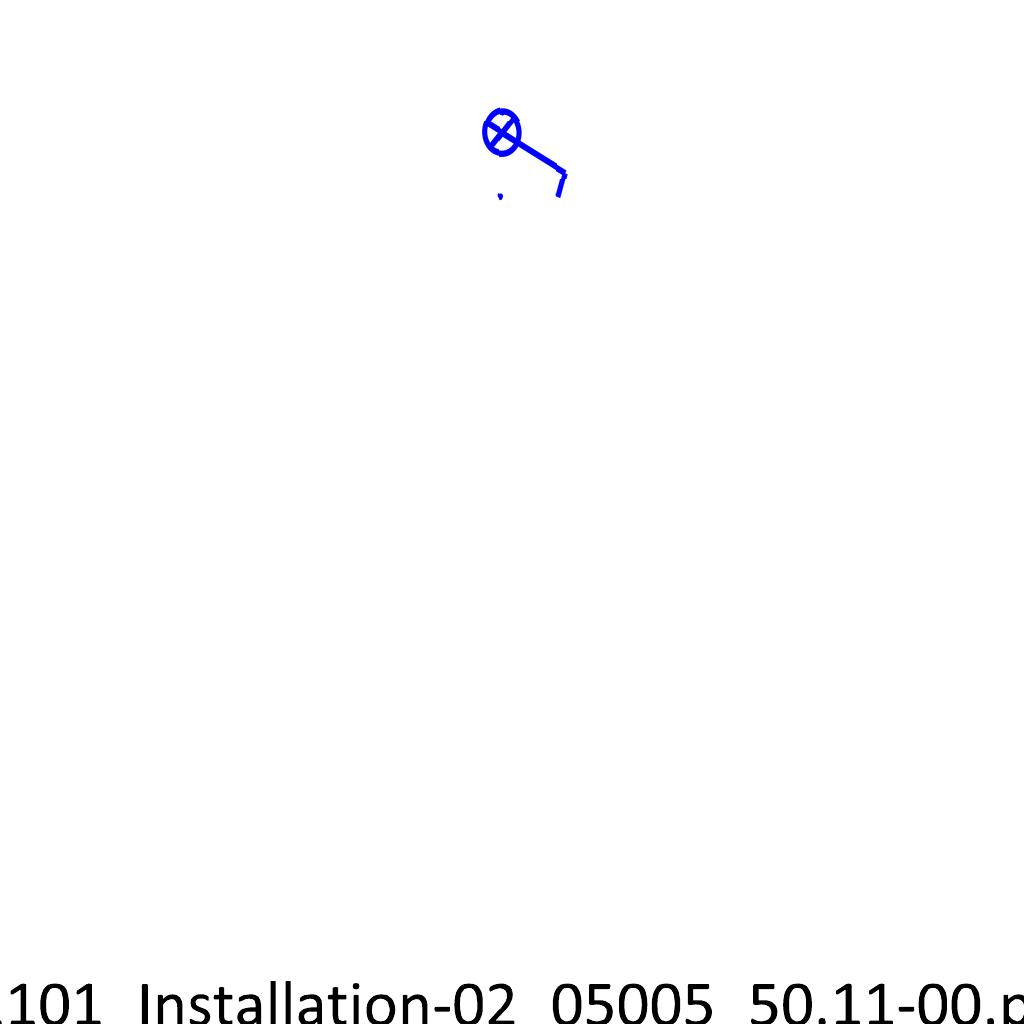Ausschalter_beleuchtet: (479, 93, 577, 207)
